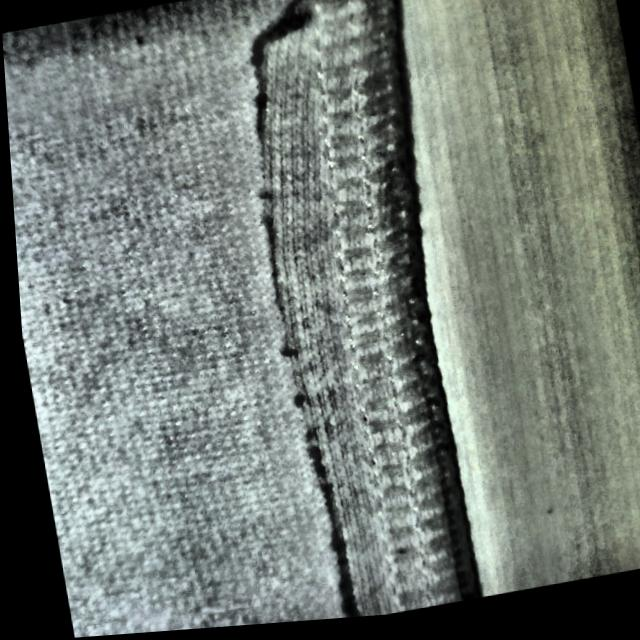seam: (179, 0, 486, 630)
